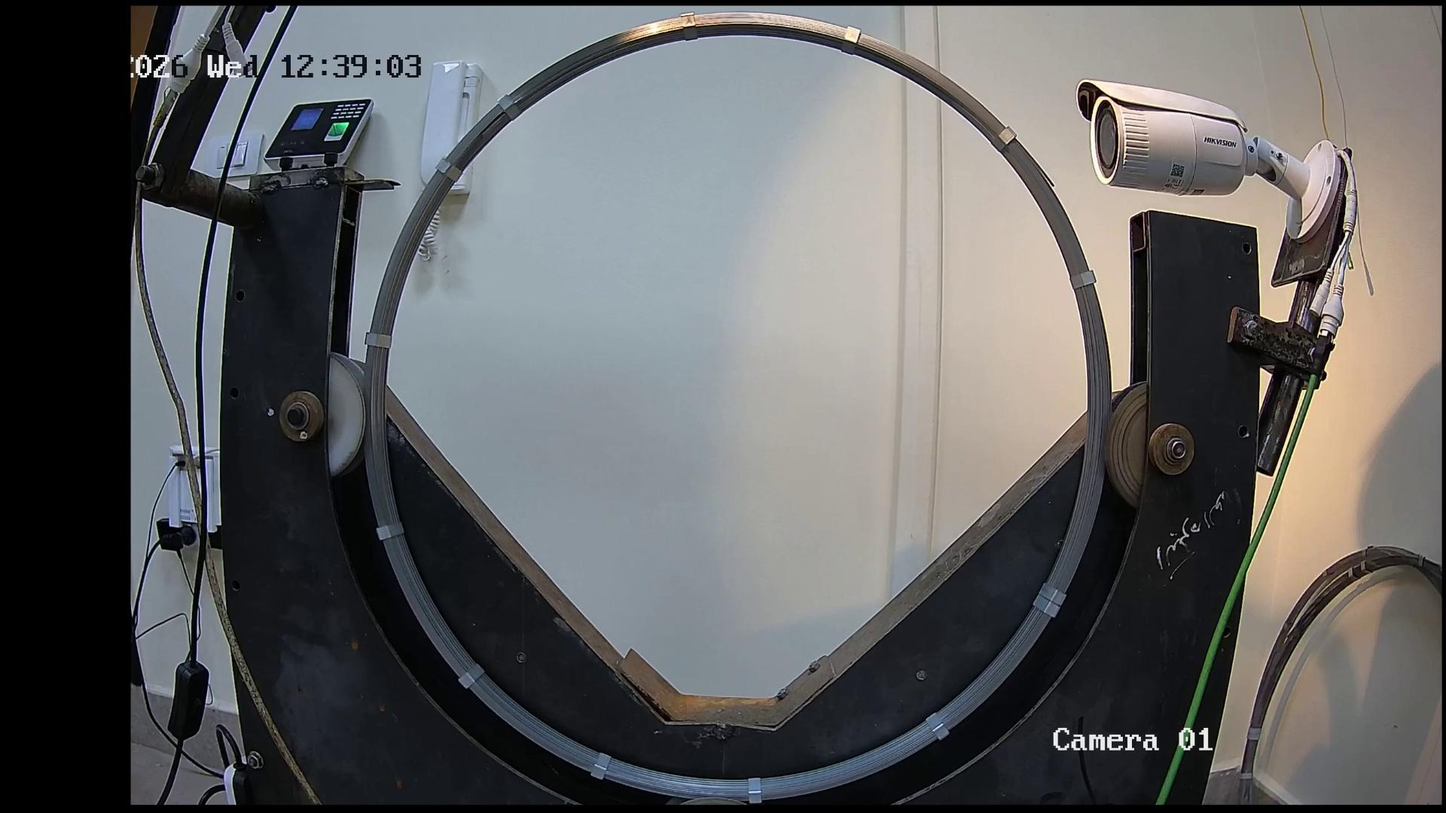clamp: (925, 711, 951, 741), (434, 157, 463, 183), (991, 125, 1017, 153), (1032, 594, 1061, 619), (1038, 582, 1067, 607), (458, 663, 485, 689), (497, 94, 522, 121), (590, 750, 612, 780), (841, 24, 861, 55), (375, 521, 405, 541), (679, 11, 698, 42), (1068, 269, 1097, 289), (364, 330, 392, 350), (747, 776, 763, 804)
